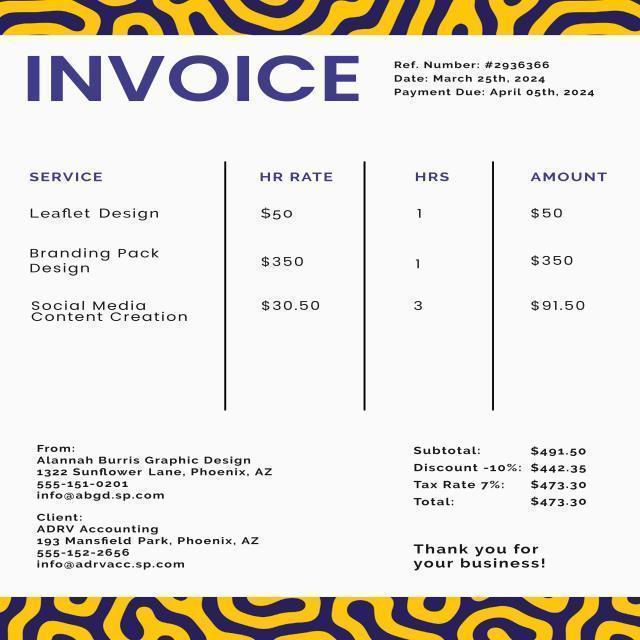ROI: (21, 160, 617, 366), (26, 55, 364, 113), (29, 505, 287, 579), (29, 436, 303, 503), (409, 435, 594, 511), (391, 56, 605, 105), (411, 538, 559, 581)
